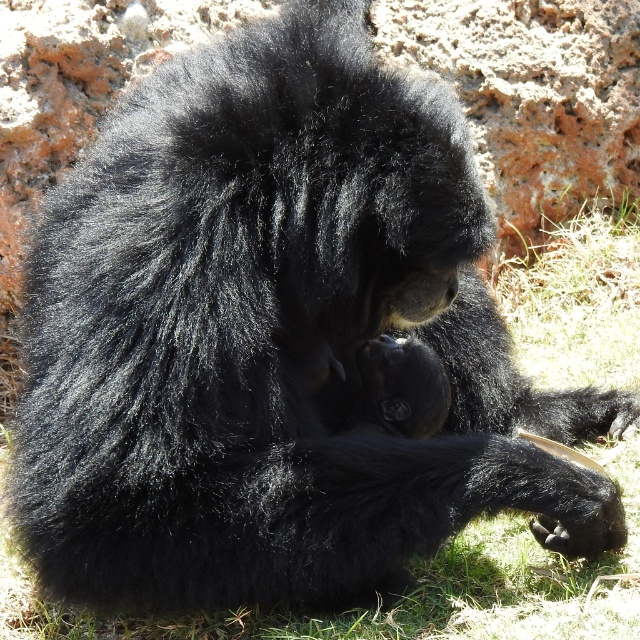Monkey: (38, 0, 619, 640)
